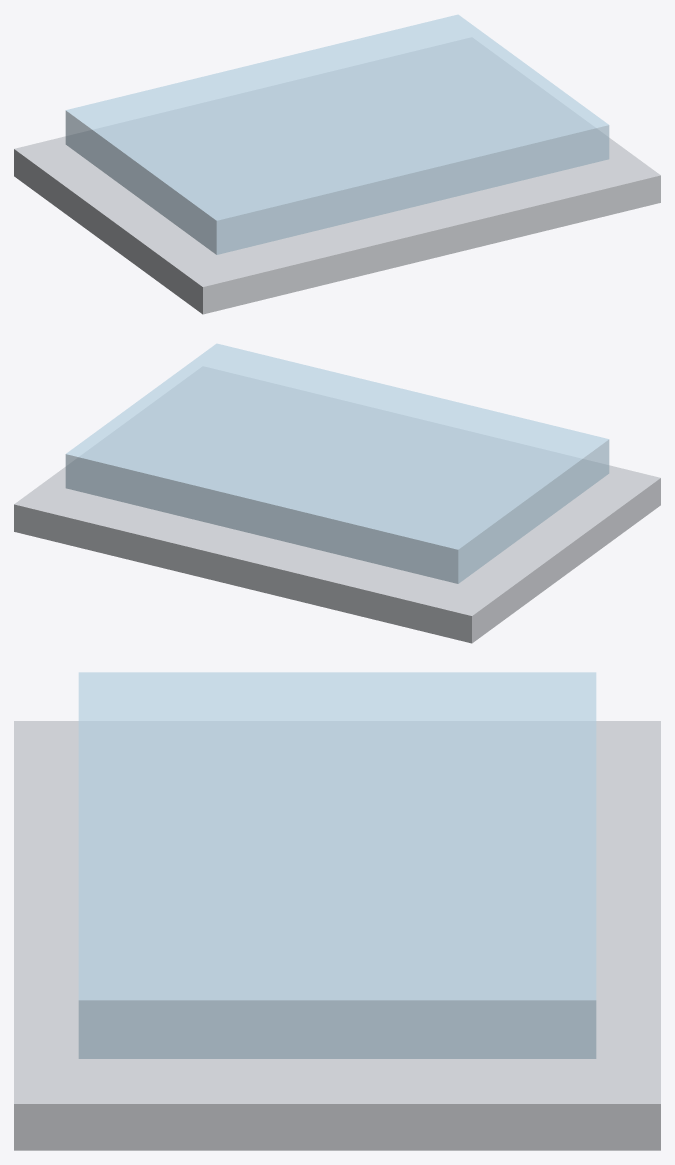
Rendered from sample-habitat-panel.glb.
3 renders of one model, top to bottom at view 1: azimuth 30°, elevation 25°; view 2: azimuth 150°, elevation 25°; view 3: azimuth 270°, elevation 25°, orthographic. The views are drawn at different scales.
Visible parts, largest first — view 1: Aluminum_Frame, PMMA_Cover; view 2: Aluminum_Frame, PMMA_Cover; view 3: Aluminum_Frame, PMMA_Cover.
Boxes of the visible parts, left/top/right/bottom form: Aluminum_Frame: left=14, top=37, right=660, bottom=314; PMMA_Cover: left=65, top=14, right=609, bottom=254; Aluminum_Frame: left=14, top=366, right=660, bottom=643; PMMA_Cover: left=65, top=343, right=609, bottom=583; Aluminum_Frame: left=14, top=721, right=660, bottom=1150; PMMA_Cover: left=78, top=672, right=596, bottom=1058.
Bounding box in the file's own units: 1.4 × 0.28 × 1.
